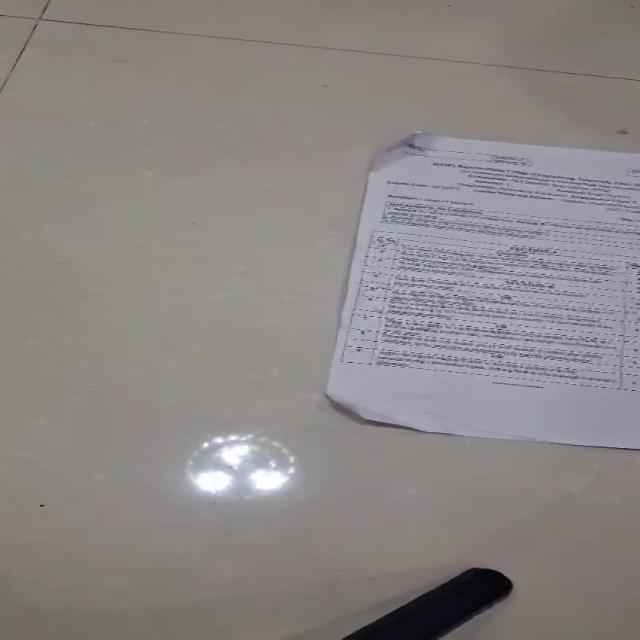paper: (324, 130, 639, 450)
